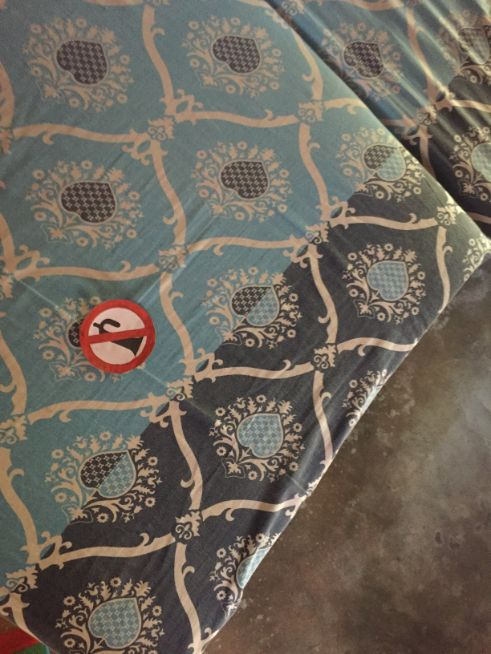no-horn: (80, 299, 153, 372)
